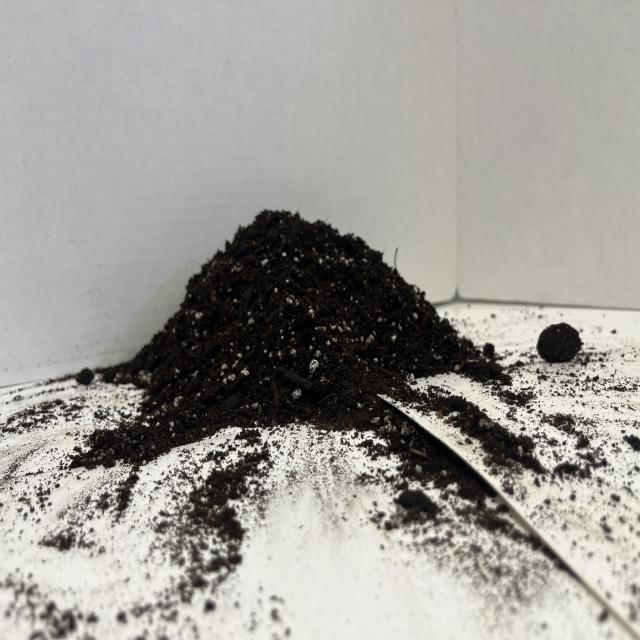soil: (69, 205, 517, 474)
